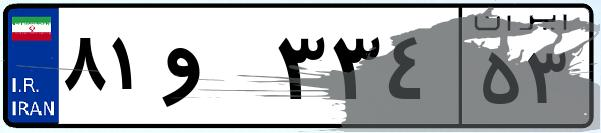1: (110, 28, 158, 98)
3: (270, 28, 330, 110), (330, 28, 385, 110), (525, 38, 570, 115)
4: (385, 28, 445, 110)
5: (475, 38, 525, 113)
8: (57, 26, 110, 100)
و: (158, 20, 270, 120)
